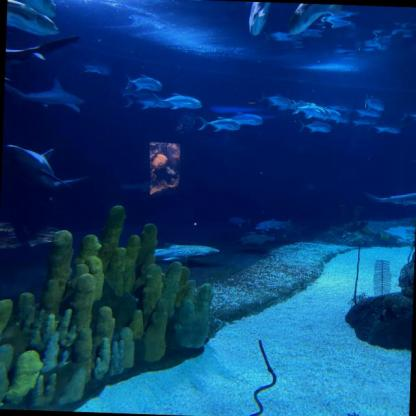fish: (5, 0, 62, 40), (284, 3, 346, 35), (151, 242, 221, 264), (246, 1, 277, 40), (6, 0, 74, 16), (80, 56, 116, 77), (202, 118, 241, 135), (126, 76, 166, 92), (224, 111, 265, 126), (162, 95, 202, 110), (122, 94, 157, 109), (256, 219, 296, 232), (357, 94, 388, 110), (264, 91, 290, 109), (374, 120, 402, 135), (304, 105, 331, 120), (299, 104, 326, 117), (304, 122, 333, 134), (320, 108, 344, 122), (355, 108, 383, 119), (224, 217, 251, 228), (350, 117, 374, 128), (399, 110, 415, 122)
shark: (8, 144, 73, 198), (18, 83, 88, 113), (5, 37, 68, 68), (370, 190, 416, 211)
stingray: (241, 233, 276, 247)
